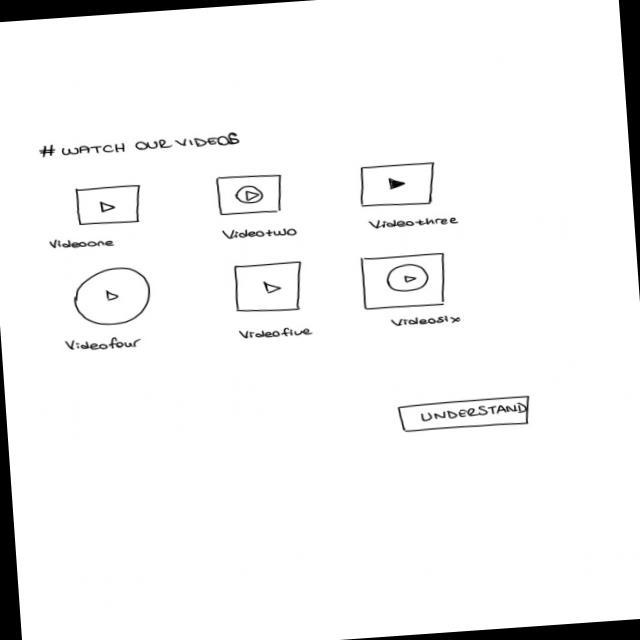button: (397, 396, 533, 435)
label: (36, 129, 247, 162), (369, 213, 462, 232), (64, 334, 144, 354), (237, 325, 317, 343), (222, 225, 300, 242), (390, 314, 465, 330), (49, 236, 117, 252)
